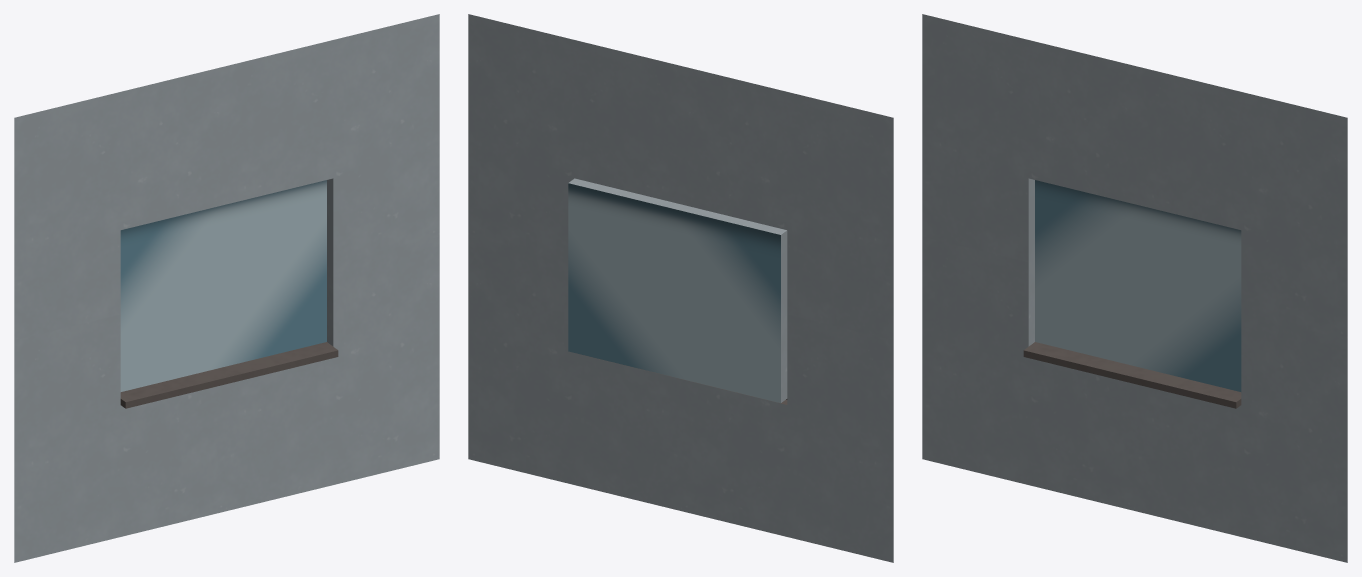
File: ExteriorWallWindow.fbx
The picture shows the model from 3 angles, left to right: view 1: azimuth 30°, elevation 25°; view 2: azimuth 150°, elevation 25°; view 3: azimuth 330°, elevation 25°; orthographic projection.
Visible parts, largest first — view 1: ExteriorWallWindow; view 2: ExteriorWallWindow; view 3: ExteriorWallWindow.
Part boxes in pixels (<box>): ExteriorWallWindow: <box>14,14,439,562</box>; ExteriorWallWindow: <box>468,14,893,562</box>; ExteriorWallWindow: <box>922,14,1347,562</box>.
Bounding box in the file's own units: 400 × 400 × 18.79.
Materials: 1 (1 with a texture image).
